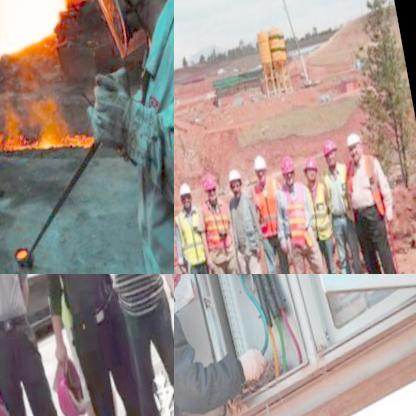helmet: (77, 0, 174, 41), (247, 154, 272, 200), (341, 132, 368, 174), (196, 172, 221, 213), (223, 168, 248, 208), (300, 157, 324, 197), (318, 141, 341, 181), (276, 158, 298, 197), (177, 182, 196, 217)
